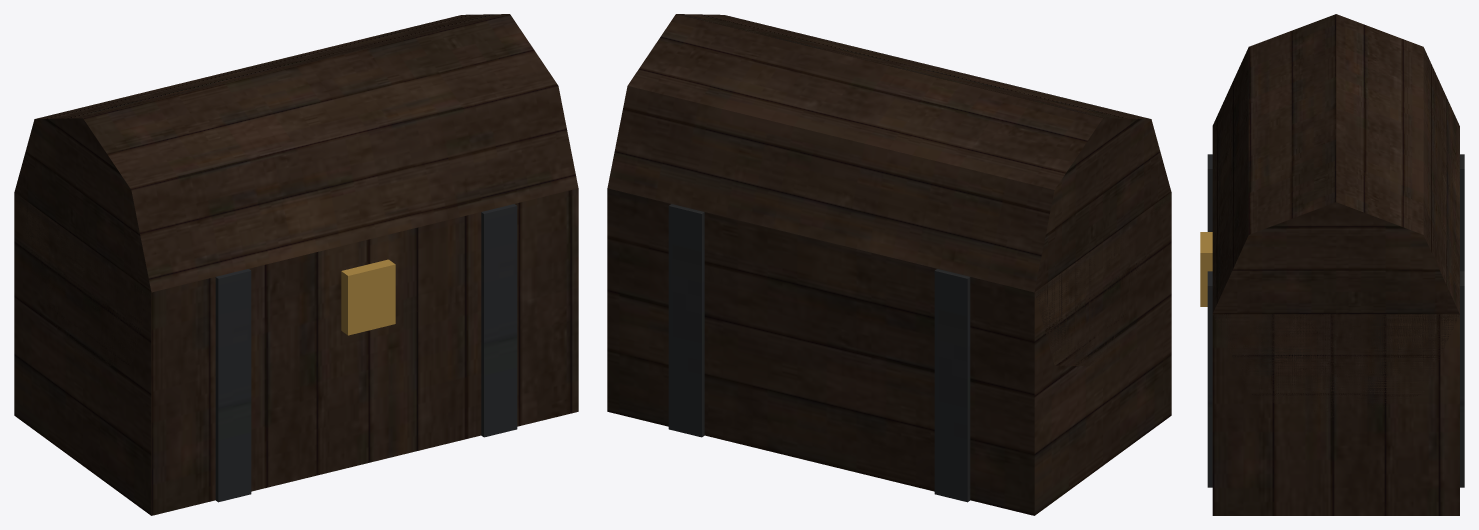
Rendered from trunk_01.glb.
3 views of the same model, side by side, from view 1: azimuth 30°, elevation 25°; view 2: azimuth 150°, elevation 25°; view 3: azimuth 270°, elevation 25° (orthographic). The views are drawn at different scales.
Parts seen in each view (by area): view 1: trunk_01; view 2: trunk_01; view 3: trunk_01.
Part boxes in pixels (box(x1,y1,x2,y2)): trunk_01: box(14, 14, 578, 515); trunk_01: box(607, 14, 1171, 515); trunk_01: box(1200, 14, 1464, 515).
Bounding box in the file's own units: 0.9 × 0.7 × 0.535.
Materials: 3 (3 with a texture image).
